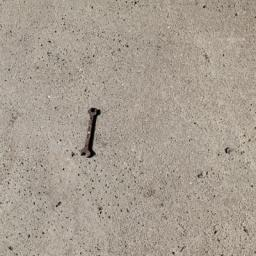FOD: (72, 101, 104, 159)
